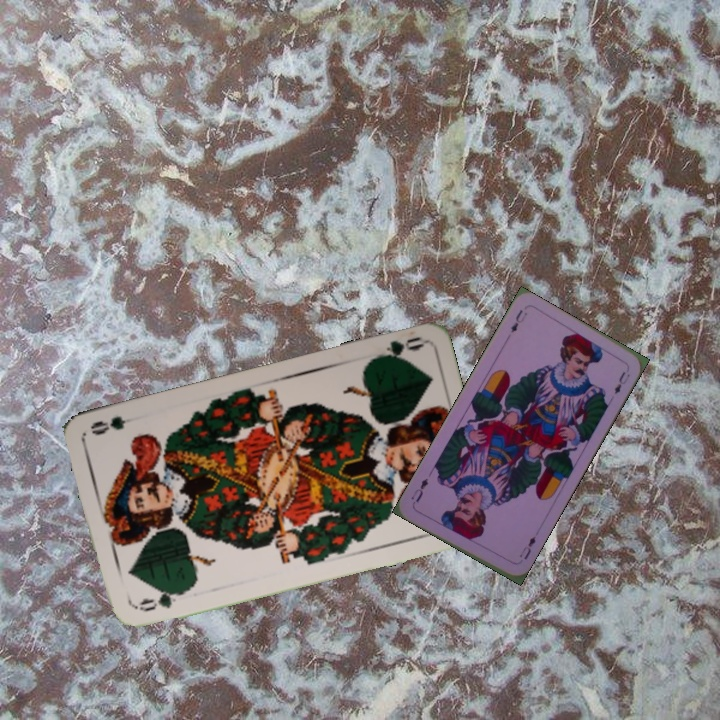EU: (515, 532, 538, 562), (507, 305, 530, 335)
GO: (368, 332, 426, 366), (132, 586, 189, 615)
